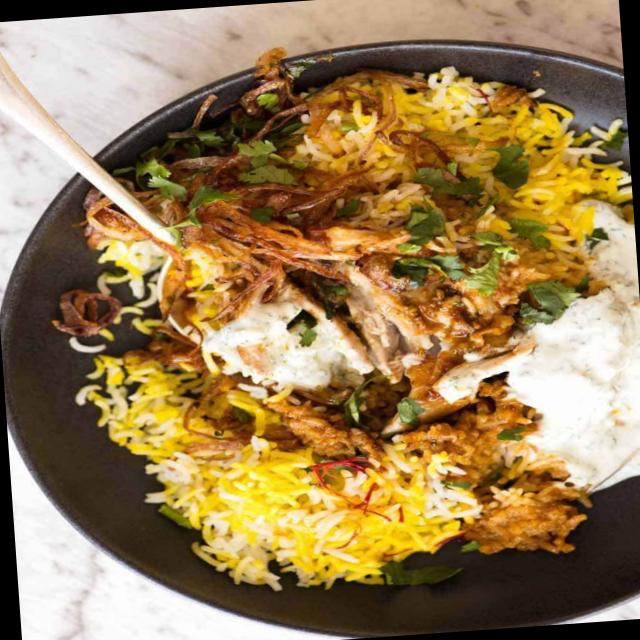Biryani: (0, 26, 640, 622)
